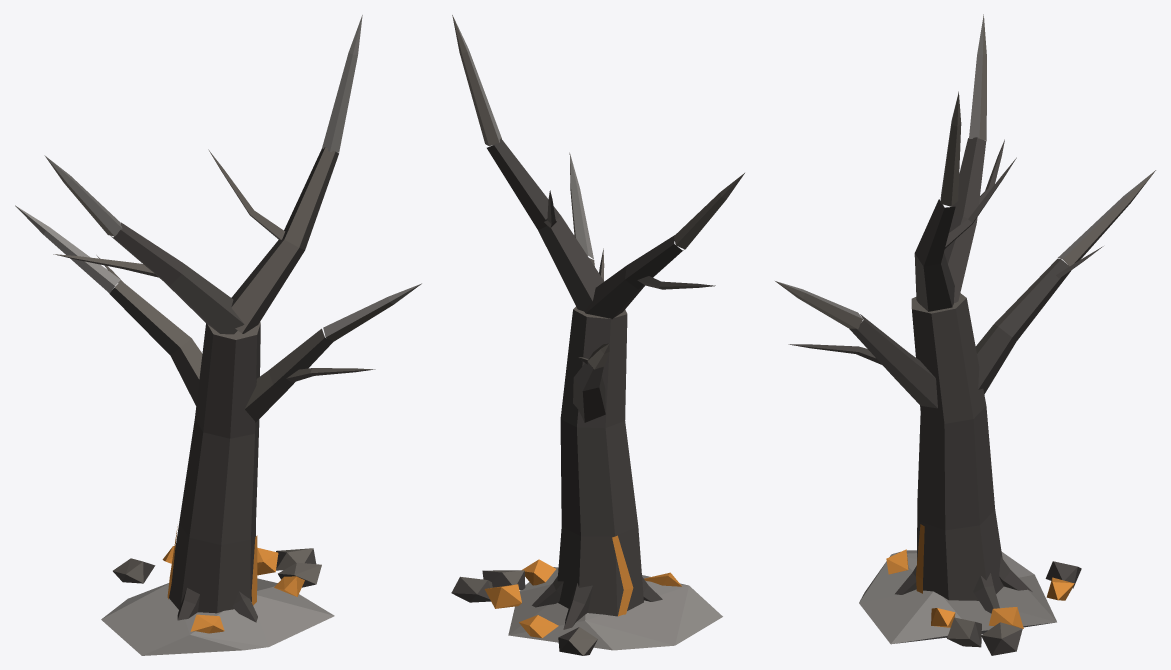
File: tree_lava_1.glb
The picture shows the model from 3 angles, left to right: view 1: azimuth 30°, elevation 25°; view 2: azimuth 150°, elevation 25°; view 3: azimuth 270°, elevation 25°; orthographic projection. The views are drawn at different scales.
Parts seen in each view (by area): view 1: Body; view 2: Body; view 3: Body.
Part boxes in pixels (x1,y1,x2,y2): Body: (15, 15, 421, 655); Body: (451, 15, 744, 655); Body: (775, 14, 1155, 655).
Bounding box in the file's own units: 3.4 × 6.18 × 3.55.
